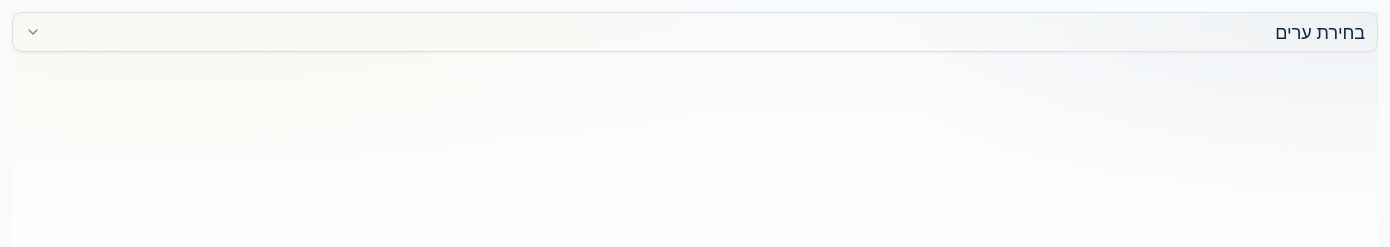
it: city filter dropdown › reads בחירת ערים and hides the missing-city form until the list is opened
Click the dropdown named "אזור" at (1320, 32), box [12,12,1378,52]
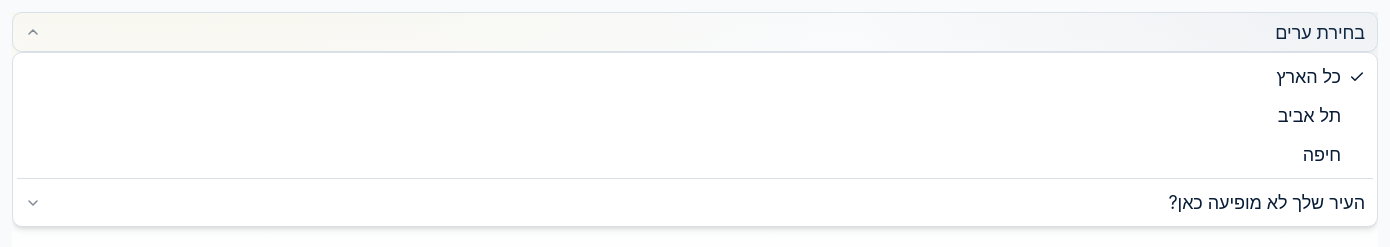
Check: the option "כל הארץ" is shown, box [17,57,1373,96]
